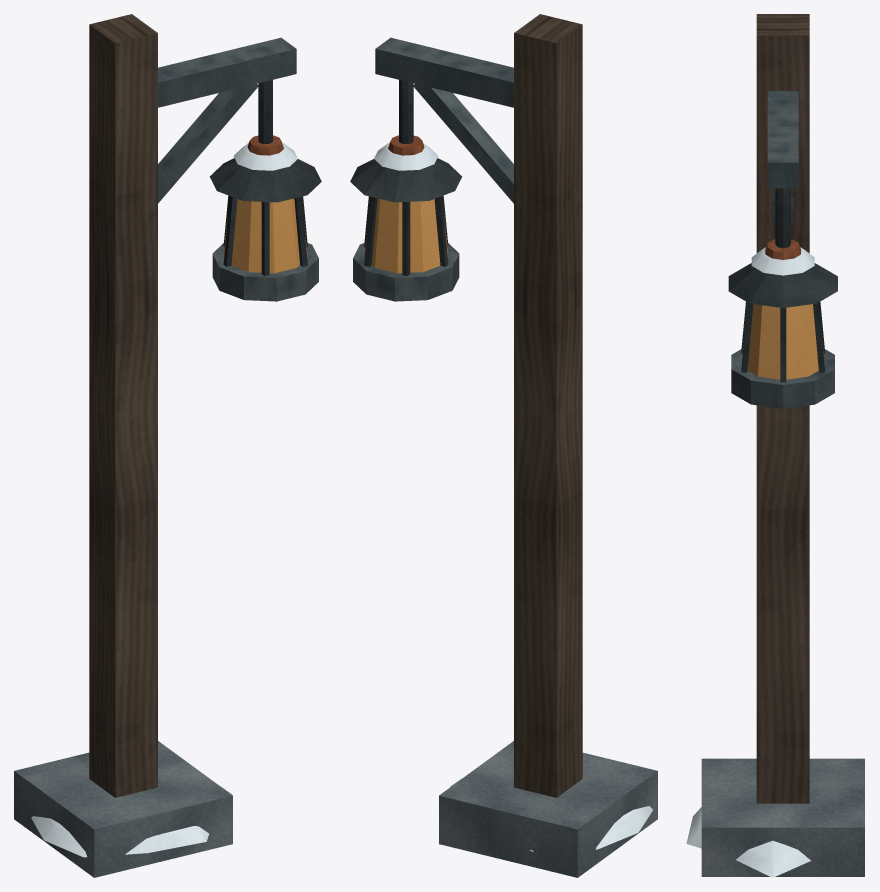
File: 14_Lantern_Post.obj
The picture shows the model from 3 angles, left to right: view 1: azimuth 30°, elevation 25°; view 2: azimuth 150°, elevation 25°; view 3: azimuth 270°, elevation 25°; orthographic projection.
Visible parts, largest first — view 1: 14_Lantern_Post; view 2: 14_Lantern_Post; view 3: 14_Lantern_Post.
Boxes of the visible parts, <box> form: 14_Lantern_Post: <box>14,14,321,877</box>; 14_Lantern_Post: <box>350,14,657,877</box>; 14_Lantern_Post: <box>686,14,865,877</box>.
Size of the model in its own units: 0.835 by 2.32 by 0.4609.
Materials: 7 (7 with a texture image).
